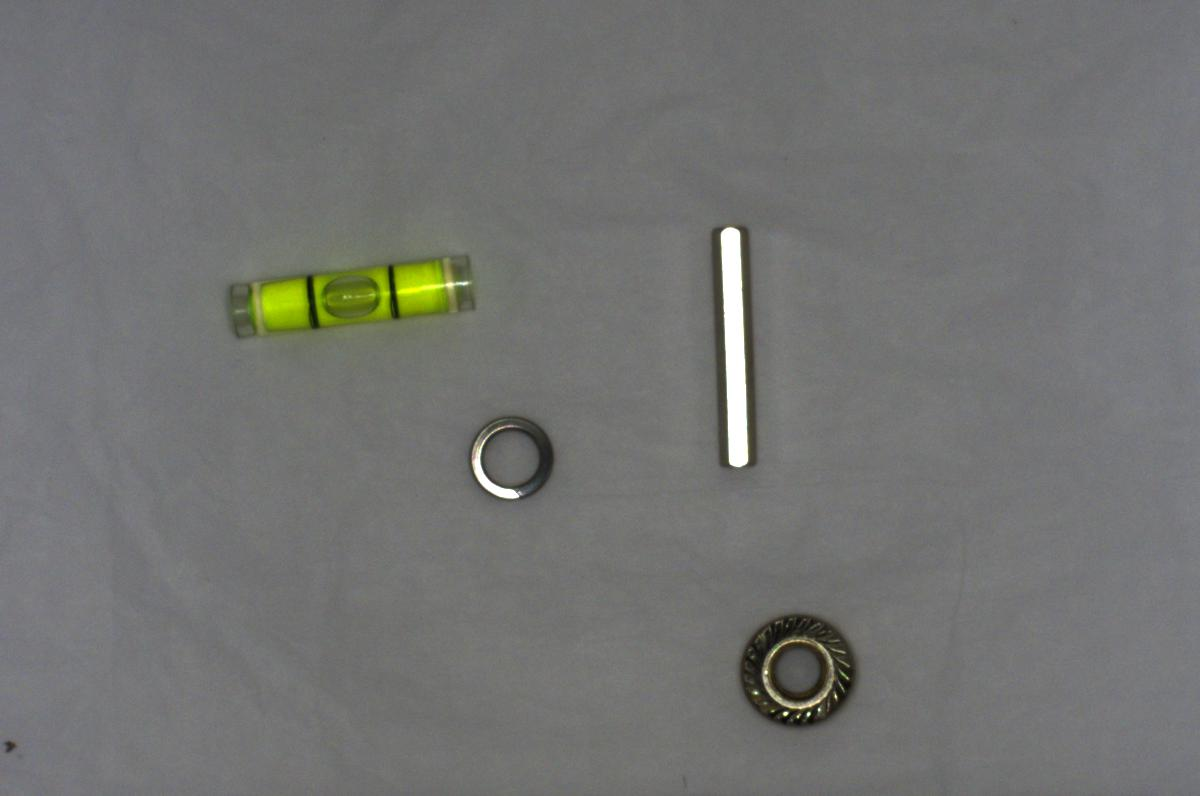Double hexagonal column: (701, 216, 766, 476)
Flange nut: (720, 602, 872, 739)
Horizontal bubble: (217, 245, 486, 341)
Spring washer: (455, 407, 566, 515)
